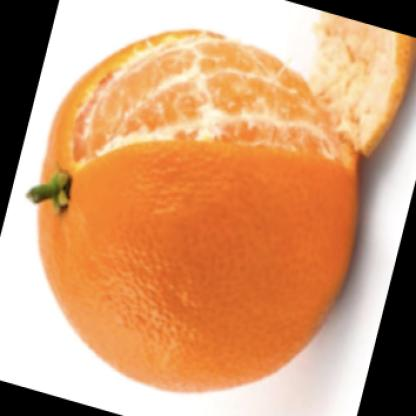fresh: (36, 29, 358, 395)
